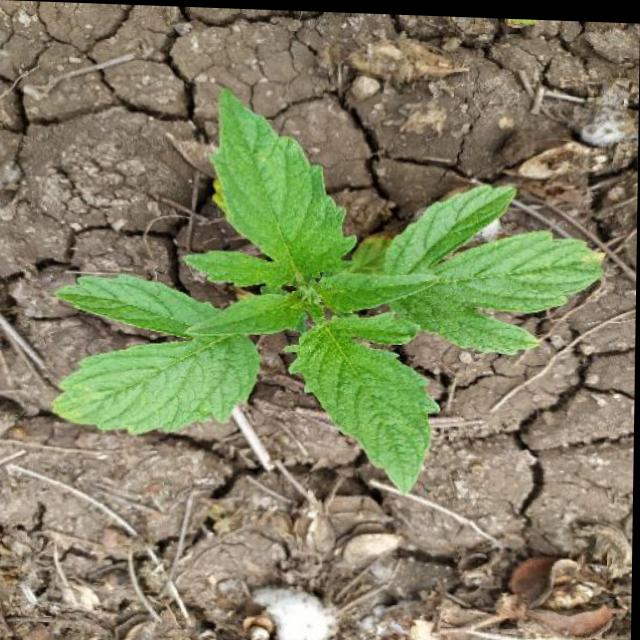crop: (60, 88, 612, 492)
